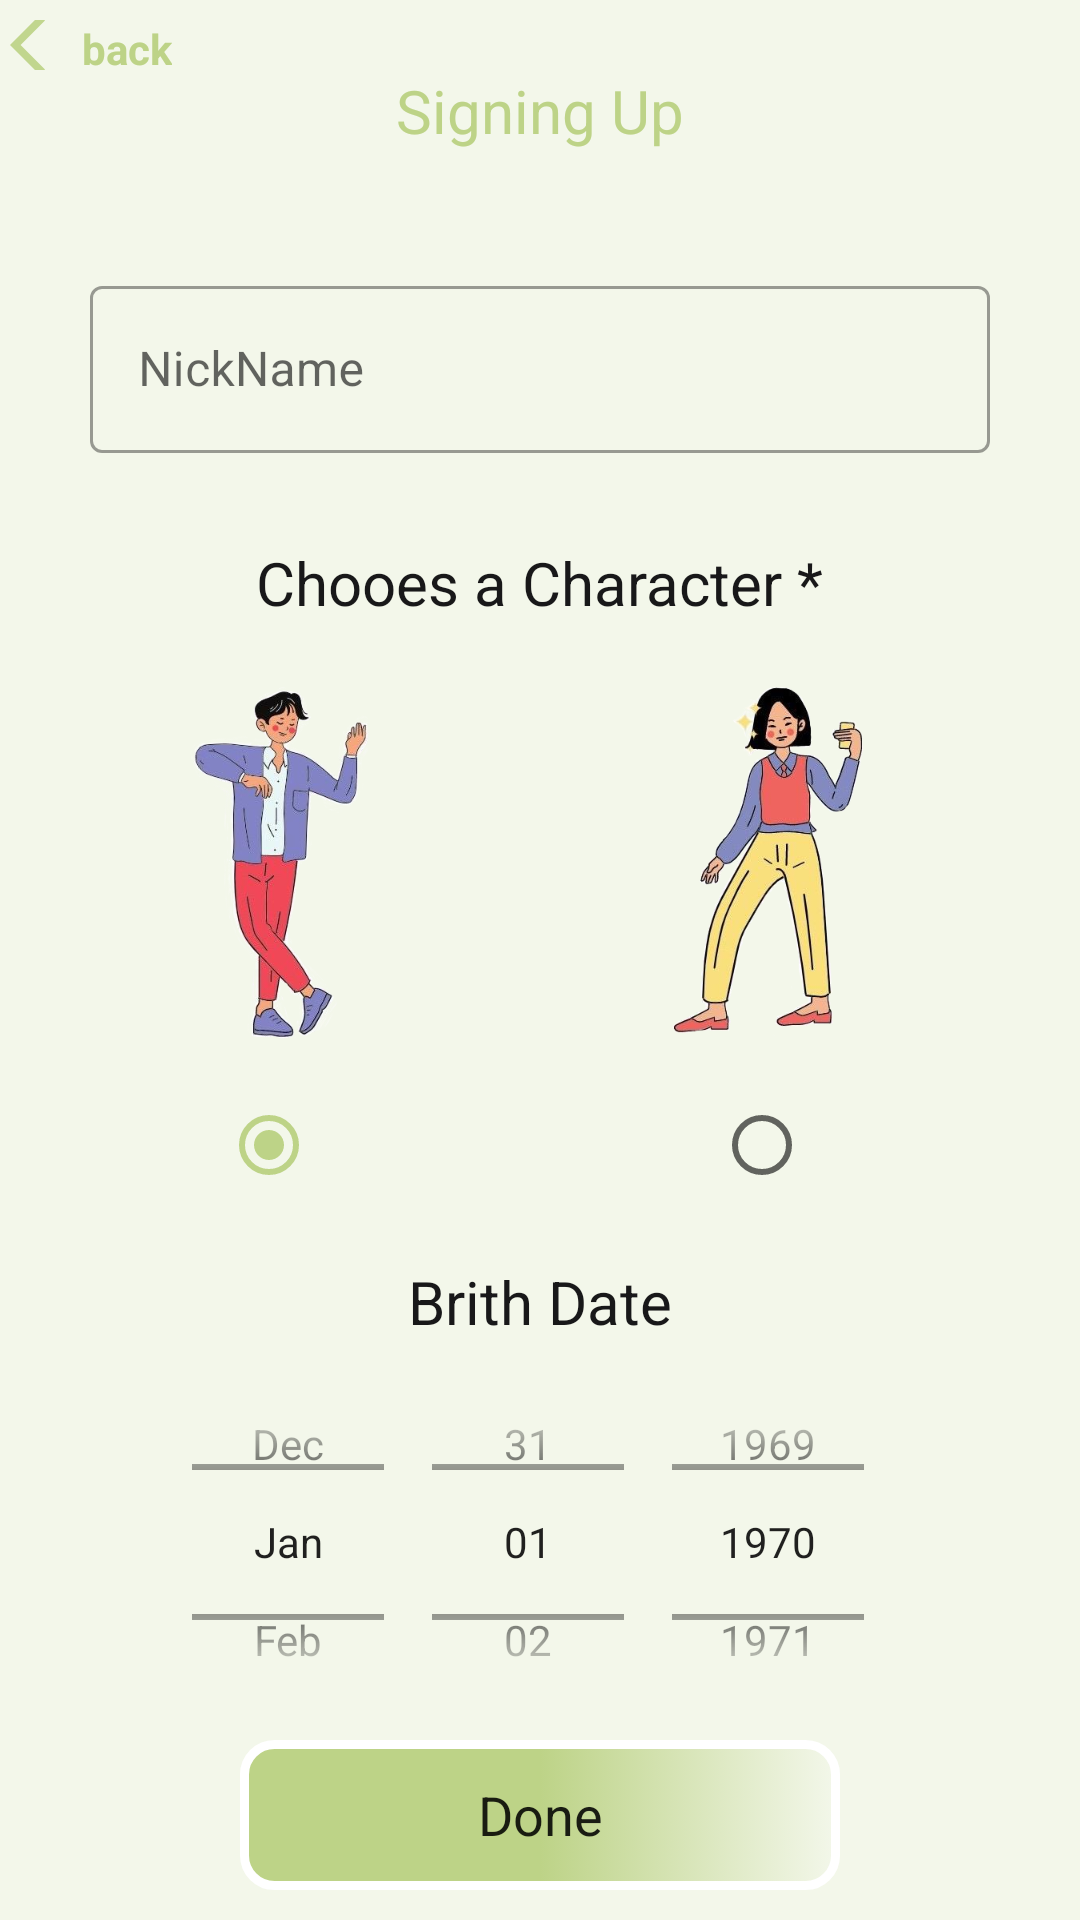

Named icons in this screenshot (1080 × 1920) and their bounding boxes, [left=x1, top=y1, right=x2, bottom=y2]:
female: [left=674, top=687, right=862, bottom=1033]
male: [left=195, top=691, right=366, bottom=1037]
